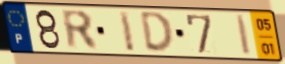7: (184, 13, 214, 55)
8: (34, 8, 62, 50)
D: (138, 11, 176, 56)
I: (117, 10, 137, 54), (234, 14, 254, 58)
R: (59, 8, 101, 52)
